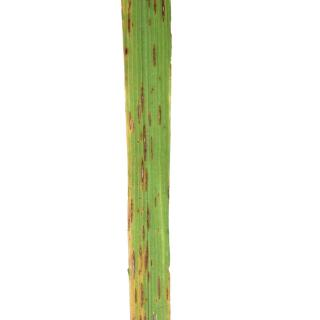Bercak-Cokelat-Sempit: (129, 240, 153, 278), (141, 0, 169, 32), (141, 122, 157, 162), (128, 283, 148, 313), (123, 196, 138, 234), (137, 81, 151, 115), (124, 1, 136, 39), (138, 156, 150, 194), (151, 44, 165, 76), (152, 274, 166, 305), (156, 102, 169, 130), (146, 203, 156, 235), (125, 105, 135, 136), (164, 179, 170, 204)
